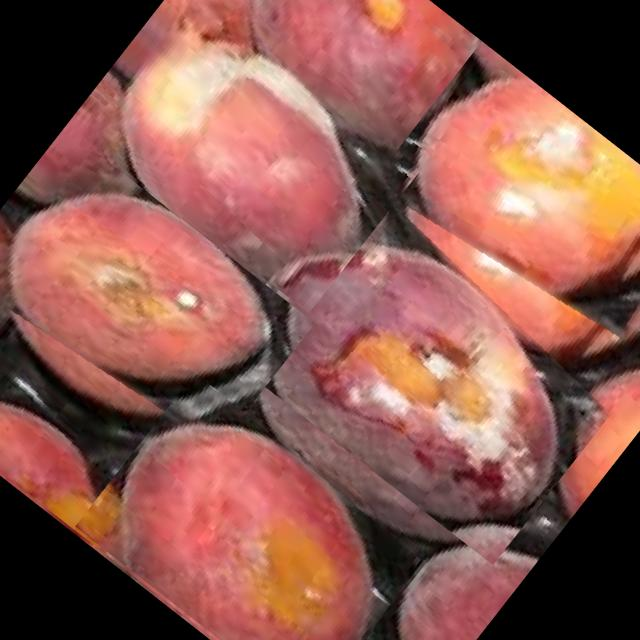Organic: (0, 0, 640, 640), (210, 165, 633, 564), (82, 0, 437, 312), (0, 140, 315, 465), (75, 371, 437, 640), (371, 41, 640, 366)
